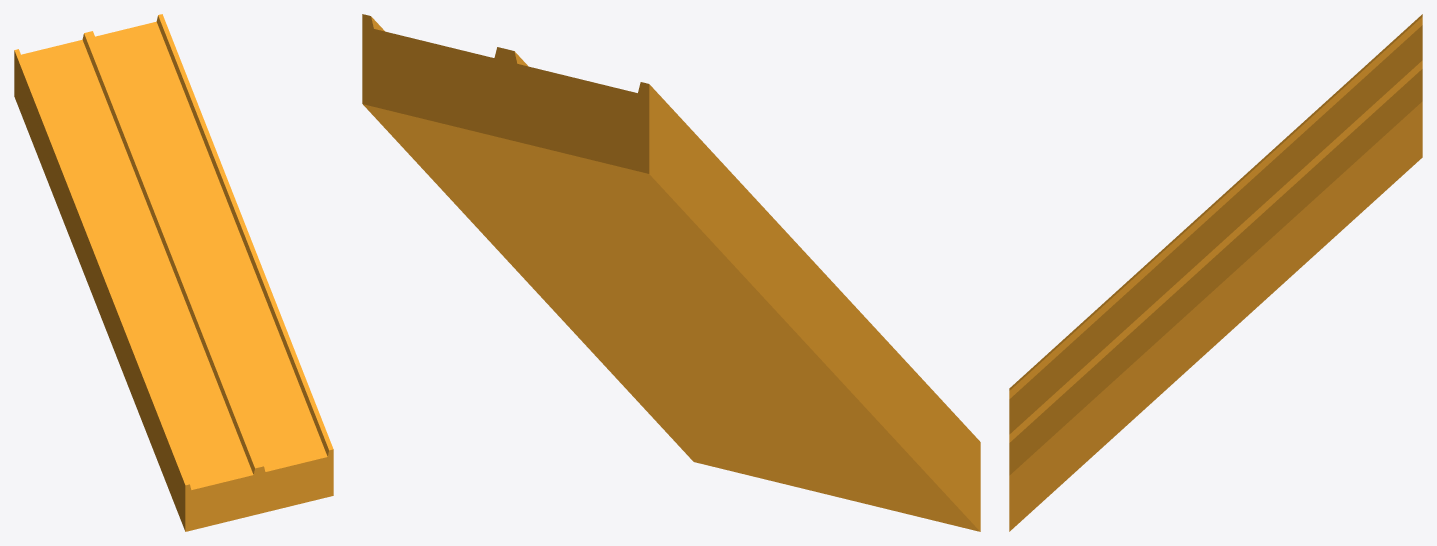
The model's file is SM_Roof_Metal_Regular_1x2m.fbx.
3 renders of one model, left to right at view 1: azimuth 30°, elevation 25°; view 2: azimuth 150°, elevation 25°; view 3: azimuth 270°, elevation 25°, orthographic. The views are drawn at different scales.
Parts seen in each view (by area): view 1: roof-metal-regular-1x2m; view 2: roof-metal-regular-1x2m; view 3: roof-metal-regular-1x2m.
Part boxes in pixels (x1=…): roof-metal-regular-1x2m: x1=14, y1=14, x2=333, y2=531; roof-metal-regular-1x2m: x1=362, y1=14, x2=980, y2=531; roof-metal-regular-1x2m: x1=1009, y1=14, x2=1422, y2=531.
Size of the model in its own units: 1 by 2.3 by 2.
